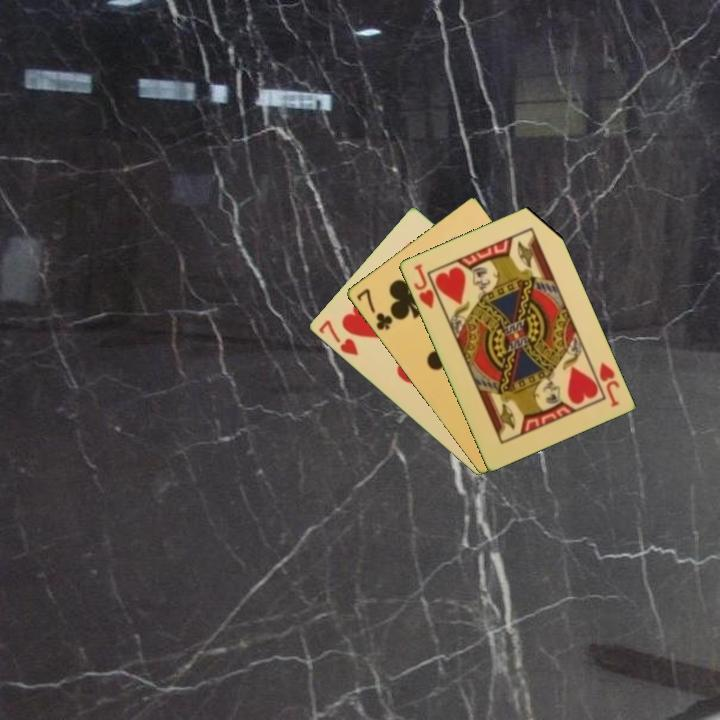7c: (352, 285, 395, 333)
7h: (315, 316, 361, 358)
Jh: (410, 260, 445, 312), (595, 358, 622, 410)
